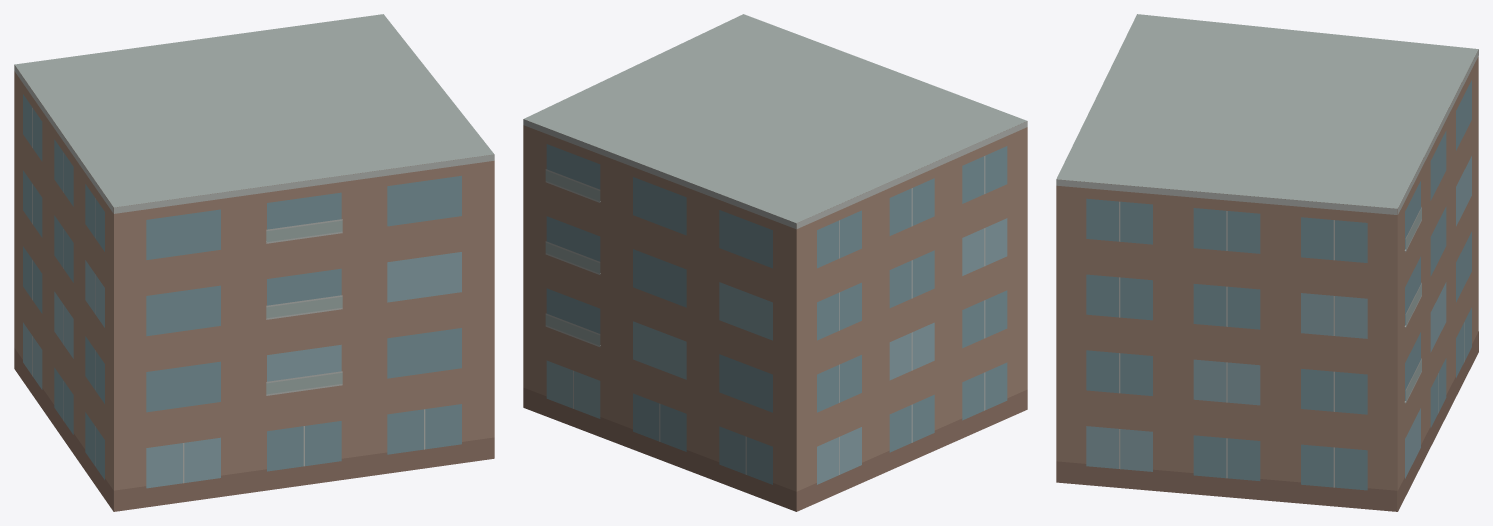
File: survey-upis-32663394.glb
3 renders of one model, left to right at view 1: azimuth 30°, elevation 25°; view 2: azimuth 150°, elevation 25°; view 3: azimuth 270°, elevation 25°, orthographic. The views are drawn at different scales.
Visible parts, largest first — view 1: survey-upis-32663394.tmp; view 2: survey-upis-32663394.tmp; view 3: survey-upis-32663394.tmp.
Part boxes in pixels (bbox=[...]): survey-upis-32663394.tmp: bbox=[14, 14, 494, 511]; survey-upis-32663394.tmp: bbox=[523, 14, 1027, 511]; survey-upis-32663394.tmp: bbox=[1056, 14, 1478, 511].
Size of the model in its own units: 15.99 by 11.6 by 14.67.
